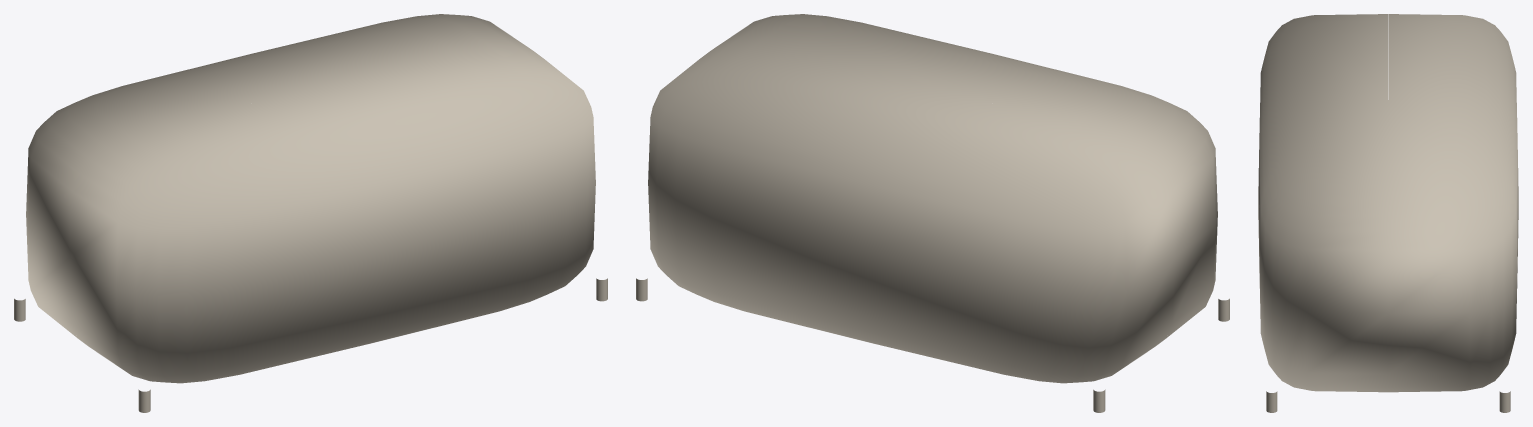
The model's file is ikea-kivik-39443876-g2-proxy.glb.
3 views of the same model, side by side, from view 1: azimuth 30°, elevation 25°; view 2: azimuth 150°, elevation 25°; view 3: azimuth 270°, elevation 25° (orthographic). The views are drawn at different scales.
Visible parts, largest first — view 1: proxy_body; view 2: proxy_body; view 3: proxy_body.
Boxes of the visible parts, box(x1,y1,x2,y2) form: proxy_body: box(26, 14, 595, 383); proxy_body: box(648, 14, 1217, 383); proxy_body: box(1258, 14, 1518, 392).
Bounding box in the file's own units: 1.9 × 0.83 × 0.95.
